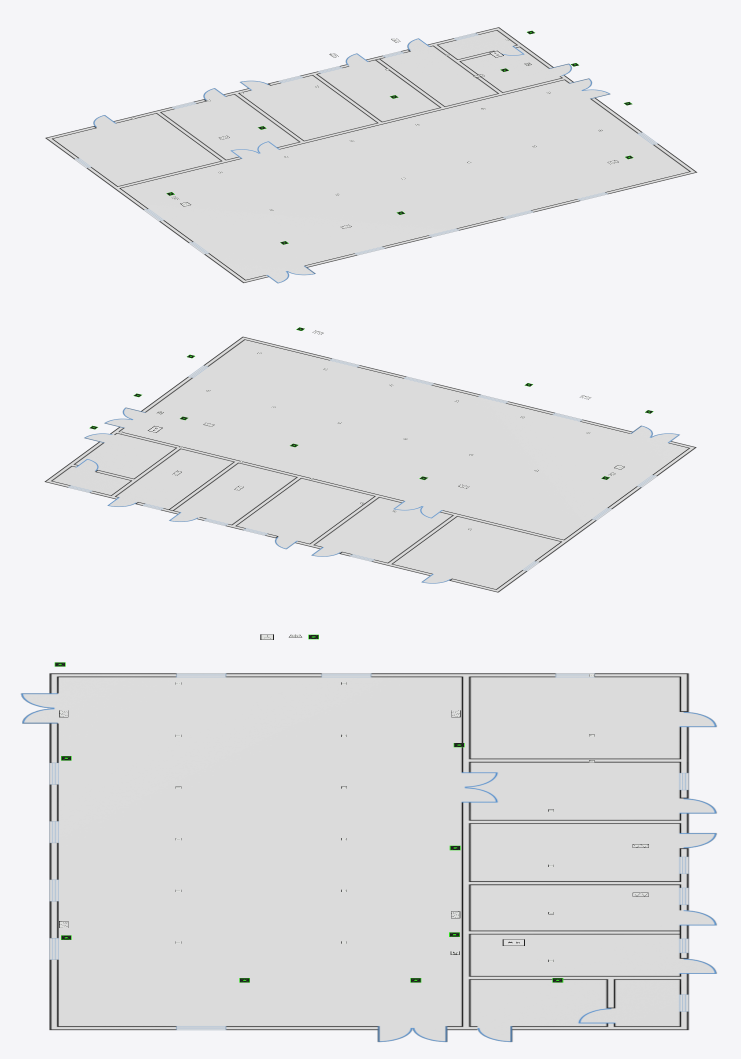
Rendered from ZKL.gltf.
The picture shows the model from 3 angles, top to bottom: view 1: azimuth 30°, elevation 25°; view 2: azimuth 150°, elevation 25°; view 3: azimuth 270°, elevation 25°; orthographic projection. The views are drawn at different scales.
Visible parts, largest first — view 1: NC_RM_Floor_主控楼; view 2: NC_RM_Floor_主控楼; view 3: NC_RM_Floor_主控楼.
Part boxes in pixels (x1,y1,x2,y2): NC_RM_Floor_主控楼: (45,27,696,283); NC_RM_Floor_主控楼: (44,336,696,592); NC_RM_Floor_主控楼: (21,673,716,1041).
Bounding box in the file's own units: 24309 × 1280 × 18954.
Materials: 2 (2 with a texture image).
